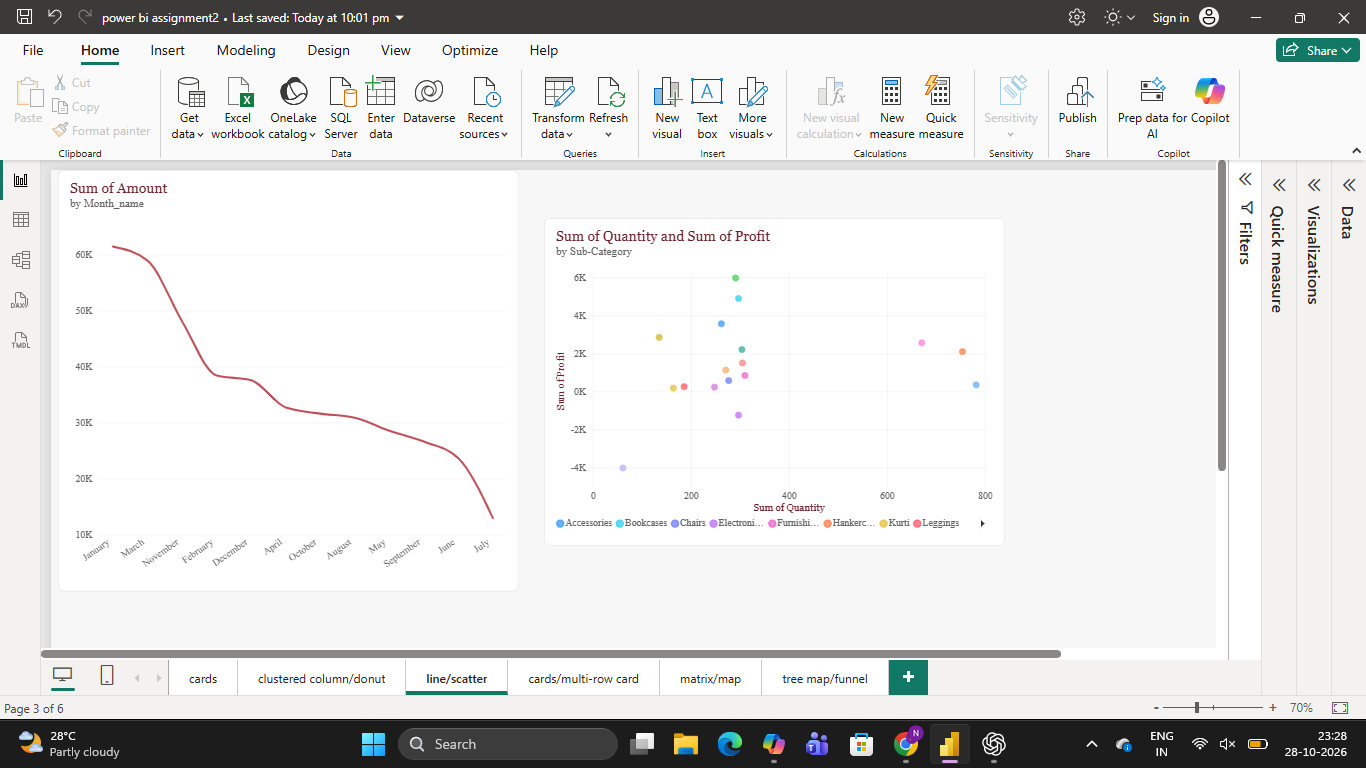

The page's visual inventory and layout, read from the dashboard file:
{"tool":"powerbi","page":{"name":"line/scatter","canvas":[1920,1080],"ordinal":2},"visuals":[{"type":"lineChart","fields":{"Category":["Date_table.Month_name"],"Y":["Sum(Order Details (1).Amount)"]},"box":[10,0,658,602],"z":0},{"type":"scatterChart","fields":{"Series":["Order Details (1).Sub-Category"],"X":["Sum(Order Details (1).Quantity)"],"Y":["Sum(Order Details (1).Profit)"]},"box":[704,68,658,468],"z":1}]}

Visuals, with their boxes on the page's 1920x1080 design canvas (x1, y1, x2, y2). These are canvas units, not pixel positions in the 1366x768 screenshot, which may show the page scaled, cropped or inside an application window:
lineChart - Date_table.Month_name x Sum(Order Details (1).Amount): <region>10, 0, 668, 602</region>
scatterChart - Order Details (1).Sub-Category x Sum(Order Details (1).Quantity): <region>704, 68, 1362, 536</region>
